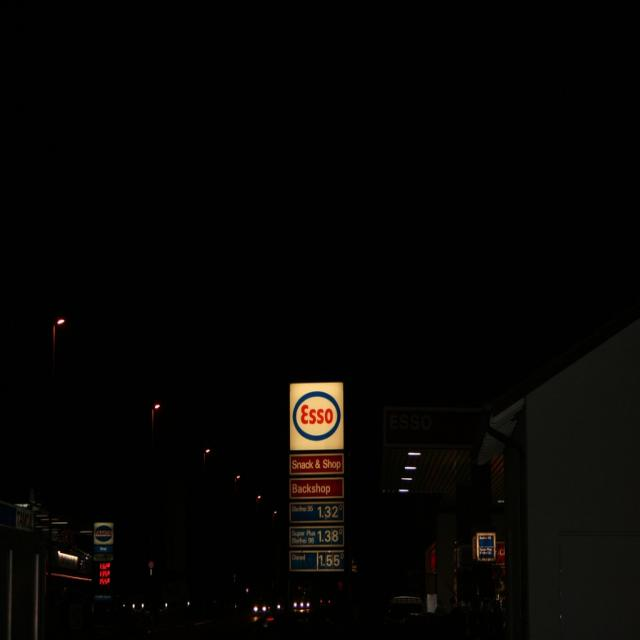esso: (293, 389, 344, 445)
